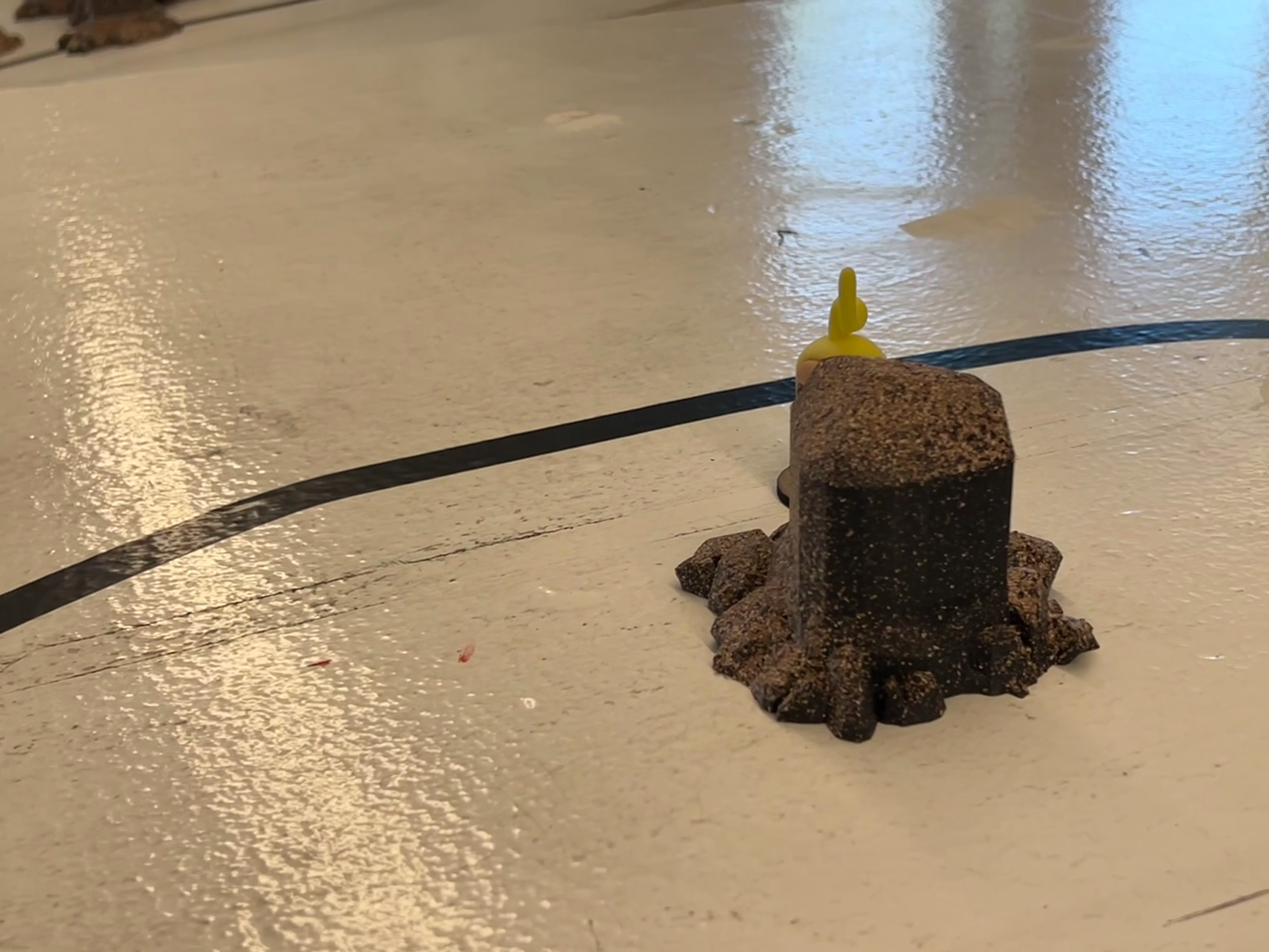teletubby: (796, 268, 884, 388)
